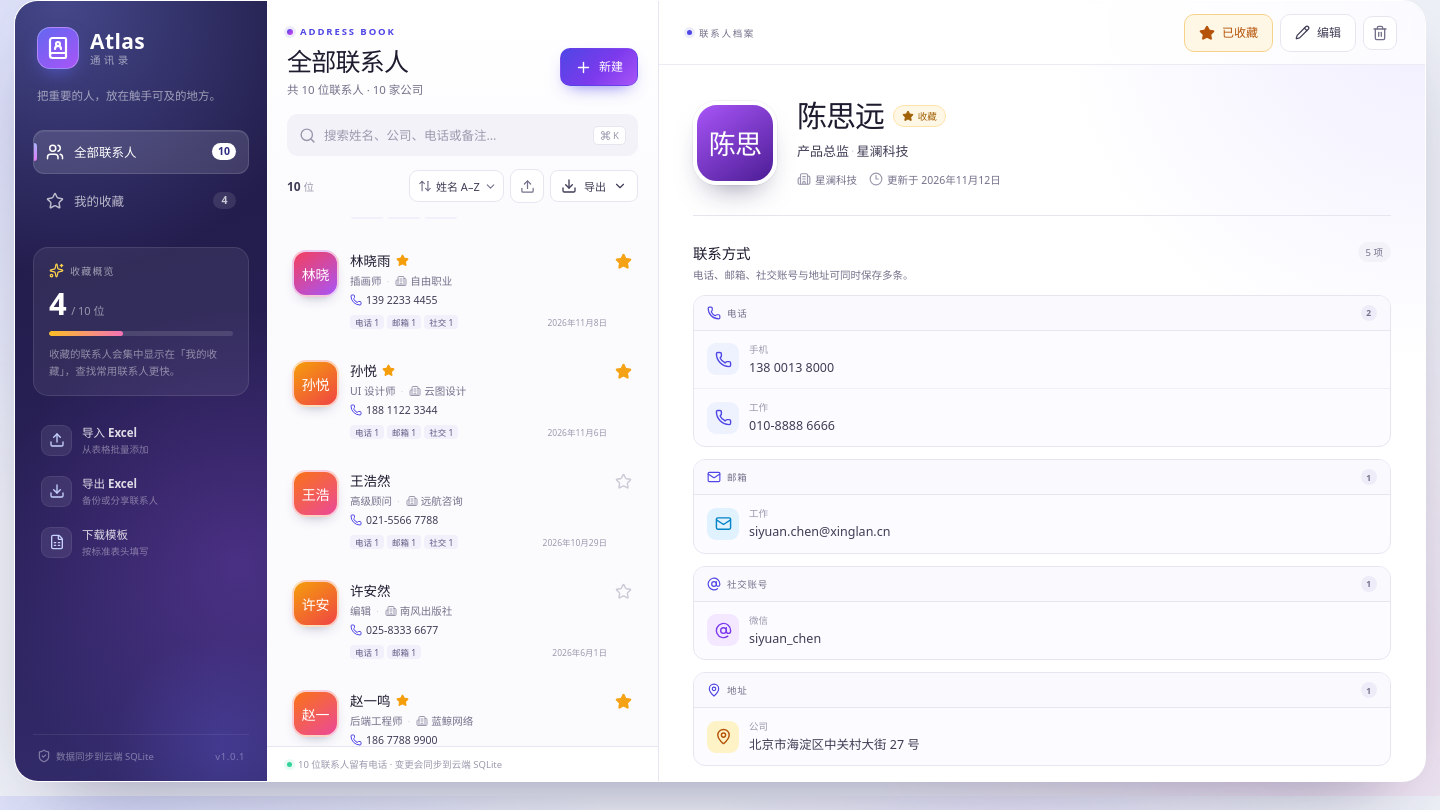
Scenario: Atlas address book › marks a contact as favorite and makes it available in the favorites view
The image size is (1440, 810).
(page scrolled)
Click the button named "收藏 王浩然" at {"x": 622, "y": 482}, box [609,468,636,495]
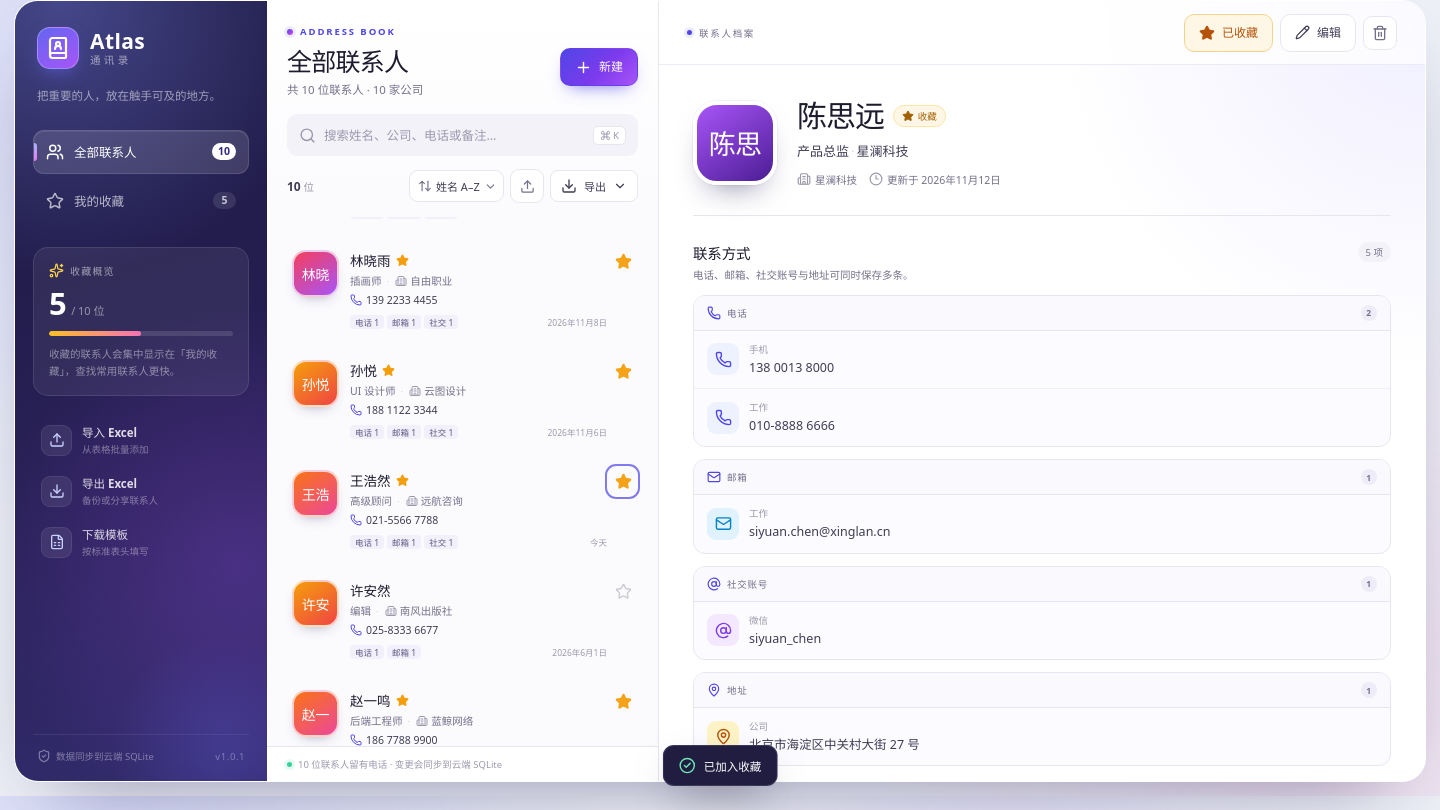
Expected: the message reads "已加入收藏", [704,758,761,774]
Click the button "我的收藏 5" at {"x": 141, "y": 200}, box [33,178,249,222]
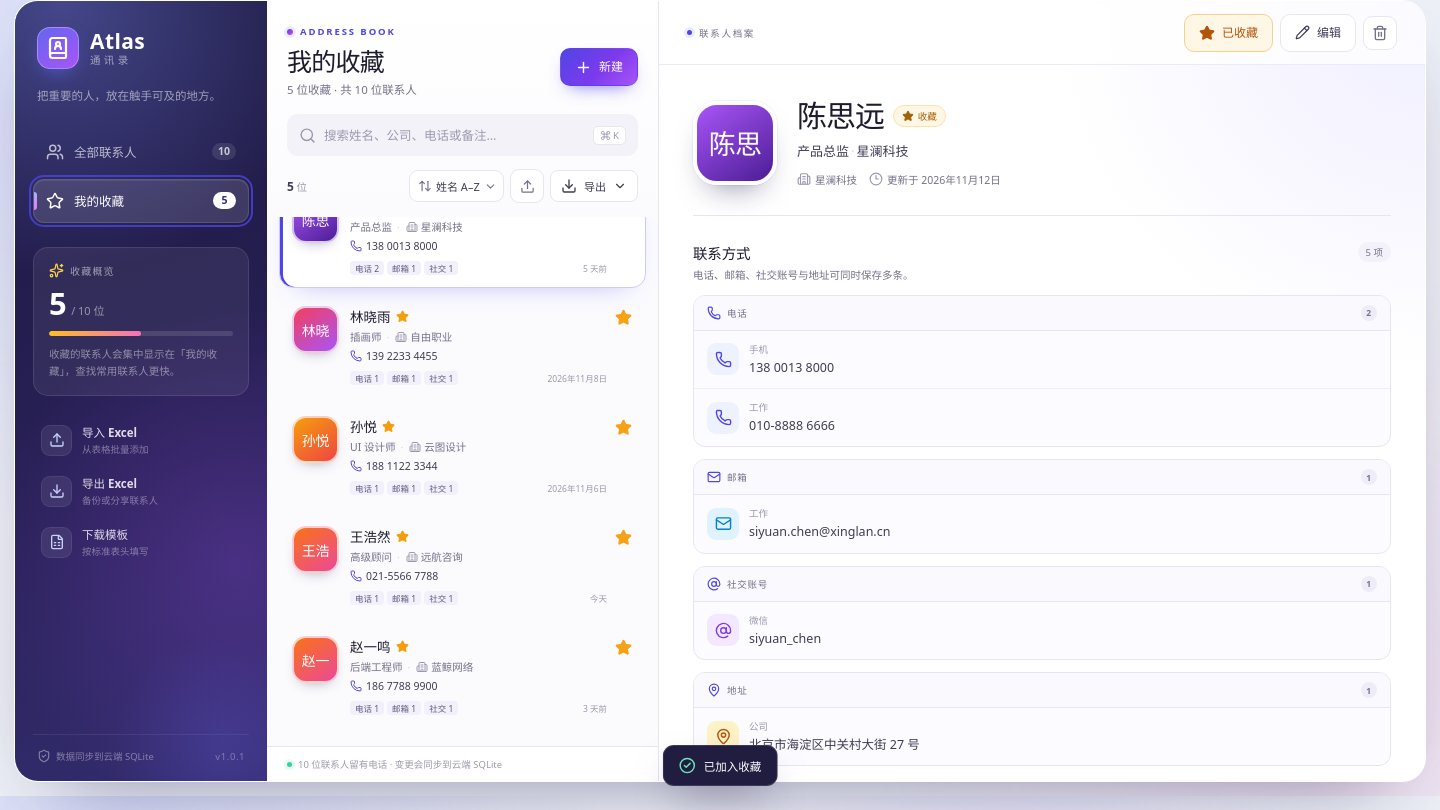
Expected: the button named "取消收藏 王浩然" is shown, [609,524,636,551]
Expected: the number of buttons "陈思 陈思远 产品总监 · 星澜科技 138 0013 8000 电话 2 邮箱 1 社交 1 5 天前" is 5, [279,217,646,288]; [279,293,646,398]; [279,403,646,508]; [279,513,646,618]; [279,623,646,728]
